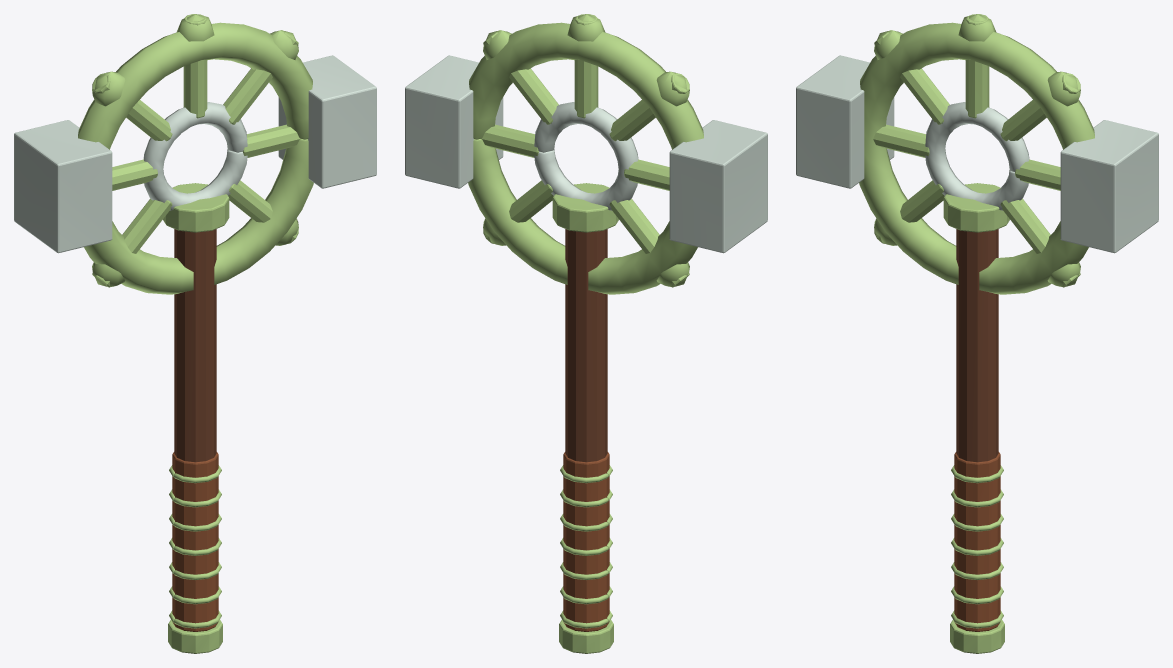
The model's file is item_049.glb.
3 renders of one model, left to right at view 1: azimuth 30°, elevation 25°; view 2: azimuth 150°, elevation 25°; view 3: azimuth 330°, elevation 25°, orthographic.
Parts seen in each view (by area): view 1: Item_049_sluice_cog; view 2: Item_049_sluice_cog; view 3: Item_049_sluice_cog.
Boxes of the visible parts, box(x1,y1,x2,y2) form: Item_049_sluice_cog: box(14, 14, 376, 653); Item_049_sluice_cog: box(405, 14, 767, 653); Item_049_sluice_cog: box(796, 14, 1158, 653).
Size of the model in its own units: 0.75 by 1.41 by 0.18.
